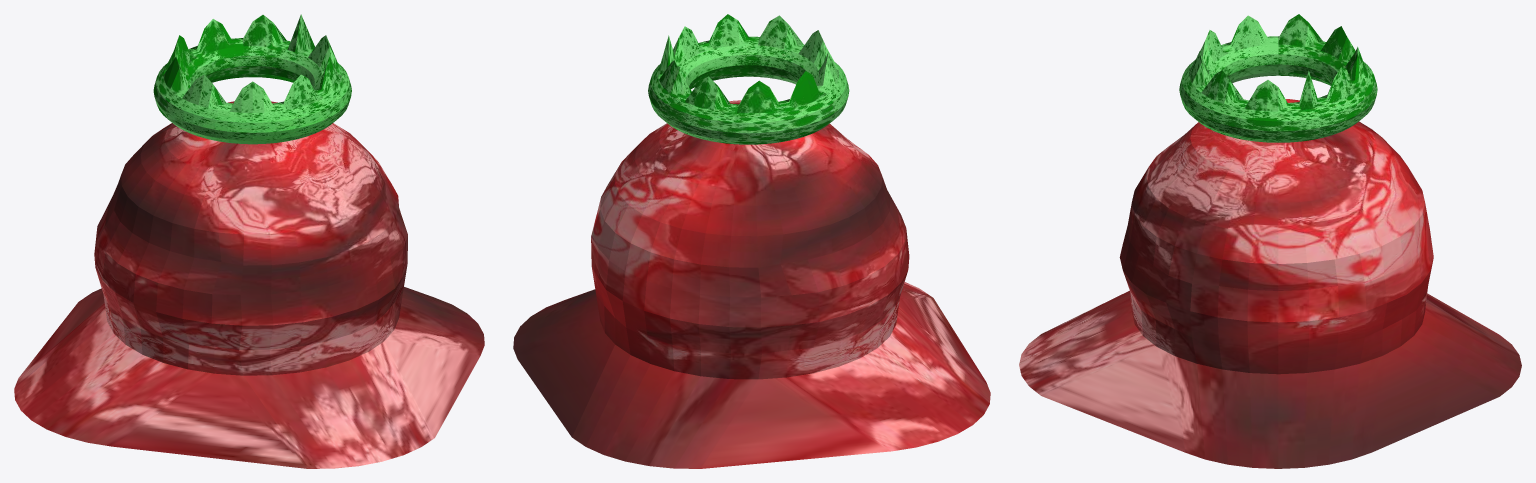
The model's file is Evil_Blob_s_c.glb.
3 views of the same model, side by side, from view 1: azimuth 30°, elevation 25°; view 2: azimuth 150°, elevation 25°; view 3: azimuth 270°, elevation 25° (orthographic).
Parts seen in each view (by area): view 1: Sphere, Torus; view 2: Sphere, Torus; view 3: Sphere, Torus.
Part boxes in pixels (box(x1,y1,x2,y2)): Sphere: box(14, 101, 484, 468); Torus: box(153, 14, 351, 144); Sphere: box(513, 100, 990, 468); Torus: box(648, 14, 849, 144); Sphere: box(1019, 99, 1521, 468); Torus: box(1179, 14, 1377, 142).
Size of the model in its own units: 0.6339 by 0.4546 by 0.6339.
2 materials, 2 textured.
